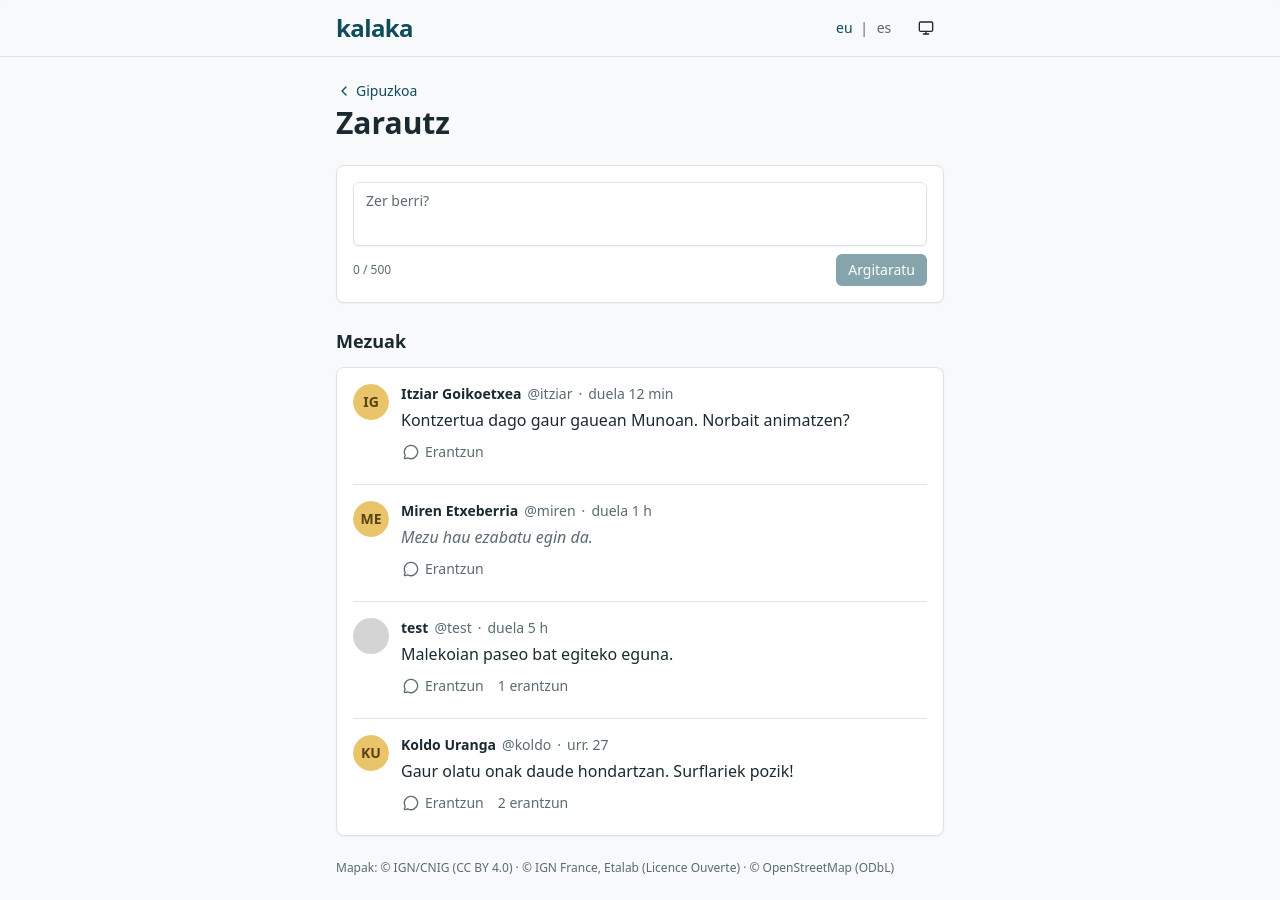
room › opens the post page with the reply box focused when you press reply
Click the link "Erantzun" next to "1 erantzun": (443, 686) [403,676,484,695]
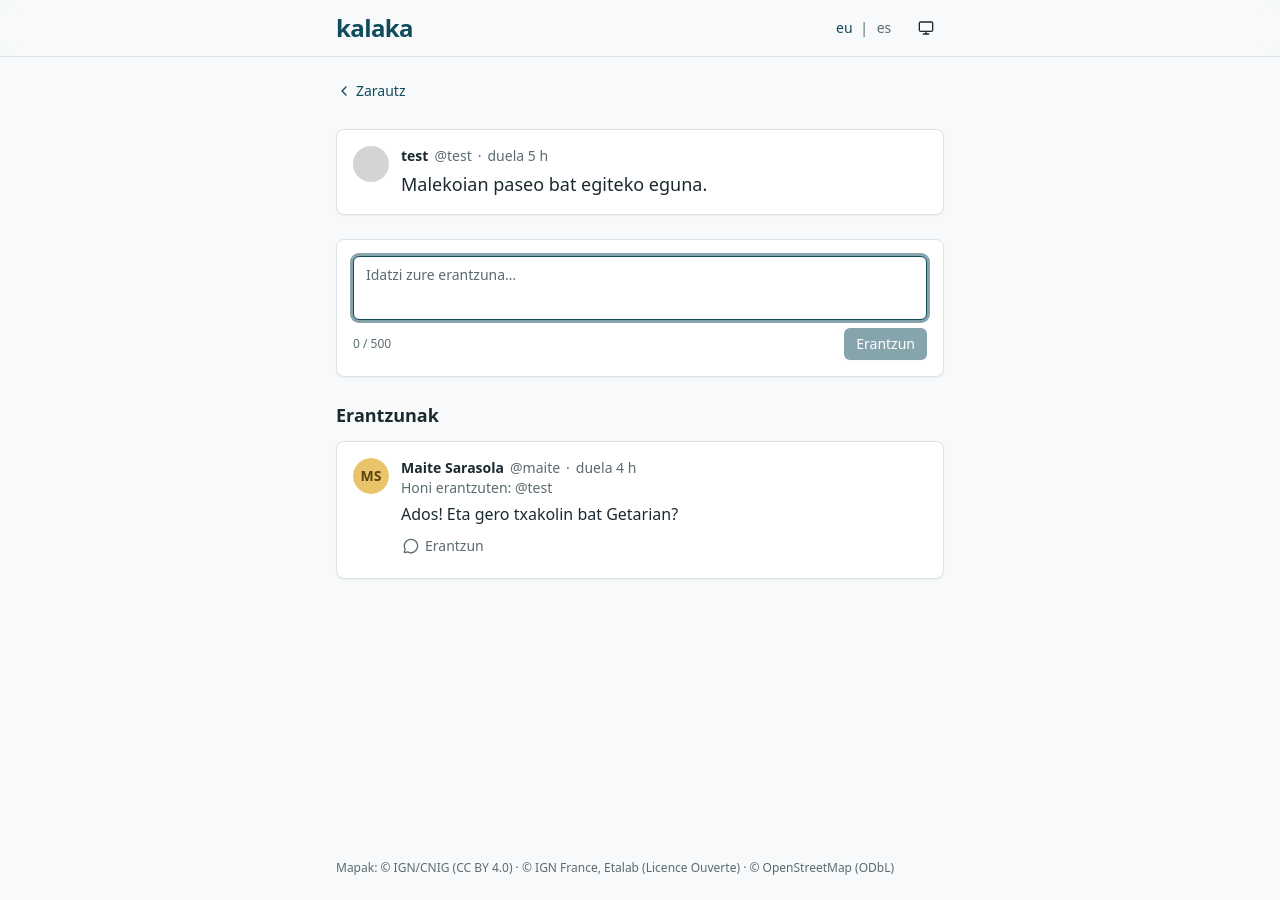
expect the heading "Erantzunak" is shown: met, box [336,403,439,427]
